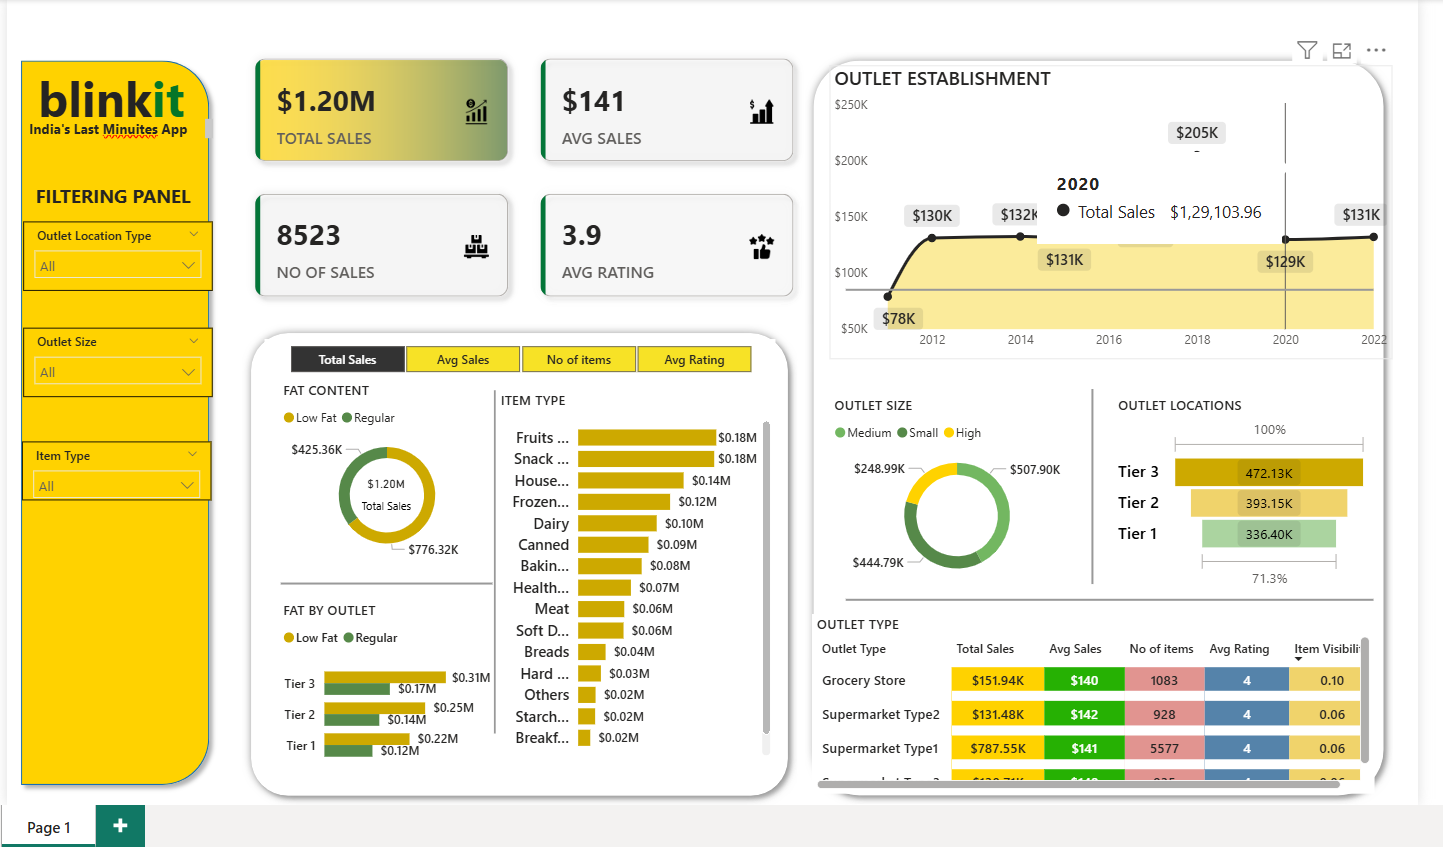

Layout of this report page (visuals, bound fields, positions):
{"tool":"powerbi","page":{"name":"Page 1","canvas":[1400,800],"ordinal":0},"visuals":[{"type":"cardVisual","fields":{"Data":["BlinkIT Grocery Data.Total Sales"]},"box":[334.7,459.3,97.6,93.1],"z":0},{"type":"shape","box":[4.5,30,205.6,769.9],"z":1000},{"type":"textbox","box":[30,42,168.1,108.1],"z":2000},{"type":"textbox","box":[24,96.1,192.1,43.5],"z":3000},{"type":"cardVisual","fields":{"Data":["BlinkIT Grocery Data.Total_Sales","BlinkIT Grocery Data.Avg_Sales","BlinkIT Grocery Data.No of items","BlinkIT Grocery Data.Avg Rating"]},"box":[232.6,52.5,570.3,270.2],"z":4000},{"type":"shape","box":[232.6,322.7,550.8,477.3],"z":5000},{"type":"donutChart","title":"FAT CONTENT","fields":{"Y":["BlinkIT Grocery Data.Total Sales"],"Category":["BlinkIT Grocery Data.Item Fat Content"]},"box":[268.7,378.2,216.1,183.1],"z":6000},{"type":"slicer","fields":{"Values":["Metrics.Metrics"]},"box":[255.1,337.7,507.3,39],"z":7000},{"type":"clusteredBarChart","title":"FAT BY OUTLET","fields":{"Y":["BlinkIT Grocery Data.Total Sales"],"Category":["BlinkIT Grocery Data.Outlet Location Type"],"Series":["BlinkIT Grocery Data.Item Fat Content"]},"box":[268.7,597.3,216.1,174.1],"z":8000},{"type":"shape","box":[432.2,388.7,105.1,340.7],"z":9000},{"type":"barChart","title":"ITEM TYPE","fields":{"Y":["BlinkIT Grocery Data.Total Sales"],"Category":["BlinkIT Grocery Data.Item Type"]},"box":[484.8,388.7,277.7,367.7],"z":10000},{"type":"shape","box":[271.7,543.3,210.1,73.5],"z":11000},{"type":"shape","box":[791,52.5,583.8,747.4],"z":12000},{"type":"lineChart","title":"OUTLET ESTABLISHMENT","fields":{"Category":["BlinkIT Grocery Data.Outlet Establishment Year"],"Y":["BlinkIT Grocery Data.Total Sales"]},"box":[816.5,66,558.3,291.2],"z":13000},{"type":"donutChart","title":"OUTLET SIZE","fields":{"Y":["BlinkIT Grocery Data.Total Sales"],"Category":["BlinkIT Grocery Data.Outlet Size"]},"box":[816.5,393.2,253.6,193.6],"z":14000},{"type":"shape","box":[1025.1,387.2,105.1,193.6],"z":15000},{"type":"shape","box":[833,252.1,523.8,73.5],"z":16000},{"type":"funnel","title":"OUTLET LOCATIONS","fields":{"Y":["Sum(BlinkIT Grocery Data.Sales)"],"Category":["BlinkIT Grocery Data.Outlet Location Type"]},"box":[1098.6,393.2,258.1,196.6],"z":17000},{"type":"pivotTable","title":"OUTLET TYPE","fields":{"Rows":["BlinkIT Grocery Data.Outlet Type"],"Values":["BlinkIT Grocery Data.Total Sales","BlinkIT Grocery Data.Avg Sales","BlinkIT Grocery Data.No of items","BlinkIT Grocery Data.Avg Rating","Avg(BlinkIT Grocery Data.Item Visibility)"]},"box":[798.5,610.9,558.3,178.6],"z":18000},{"type":"shape","box":[833,559.8,523.8,73.5],"z":19000},{"type":"slicer","title":"OUTLET LOCATION TYPE","fields":{"Values":["BlinkIT Grocery Data.Outlet Location Type"]},"box":[16.5,220.6,187.6,69],"z":20000},{"type":"slicer","title":"OUTLET LOCATION TYPE","fields":{"Values":["BlinkIT Grocery Data.Outlet Size"]},"box":[16.5,325.7,187.6,69],"z":21000},{"type":"slicer","title":"OUTLET LOCATION TYPE","fields":{"Values":["BlinkIT Grocery Data.Item Type"]},"box":[15,439.8,187.6,58.5],"z":22000},{"type":"cardVisual","fields":{"Data":["BlinkIT Grocery Data.Total Sales"]},"box":[309.2,445.8,135.1,93.1],"z":23000},{"type":"textbox","box":[24,160.6,168.1,54],"z":24000}]}

Visuals, with their boxes on the page's 1400x800 design canvas (x1, y1, x2, y2). These are canvas units, not pixel positions in the 1443x847 screenshot, which may show the page scaled, cropped or inside an application window:
cardVisual - BlinkIT Grocery Data.Total Sales: 335,459,432,552
shape: 4,30,210,800
textbox: 30,42,198,150
textbox: 24,96,216,140
cardVisual - BlinkIT Grocery Data.Total_Sales x BlinkIT Grocery Data.Avg_Sales: 233,52,803,323
shape: 233,323,783,800
"FAT CONTENT" donutChart: 269,378,485,561
slicer - Metrics.Metrics: 255,338,762,377
"FAT BY OUTLET" clusteredBarChart: 269,597,485,771
shape: 432,389,537,729
"ITEM TYPE" barChart: 485,389,762,756
shape: 272,543,482,617
shape: 791,52,1375,800
"OUTLET ESTABLISHMENT" lineChart: 816,66,1375,357
"OUTLET SIZE" donutChart: 816,393,1070,587
shape: 1025,387,1130,581
shape: 833,252,1357,326
"OUTLET LOCATIONS" funnel: 1099,393,1357,590
"OUTLET TYPE" pivotTable: 798,611,1357,790
shape: 833,560,1357,633
"OUTLET LOCATION TYPE" slicer: 16,221,204,290
"OUTLET LOCATION TYPE" slicer: 16,326,204,395
"OUTLET LOCATION TYPE" slicer: 15,440,203,498
cardVisual - BlinkIT Grocery Data.Total Sales: 309,446,444,539
textbox: 24,161,192,215
